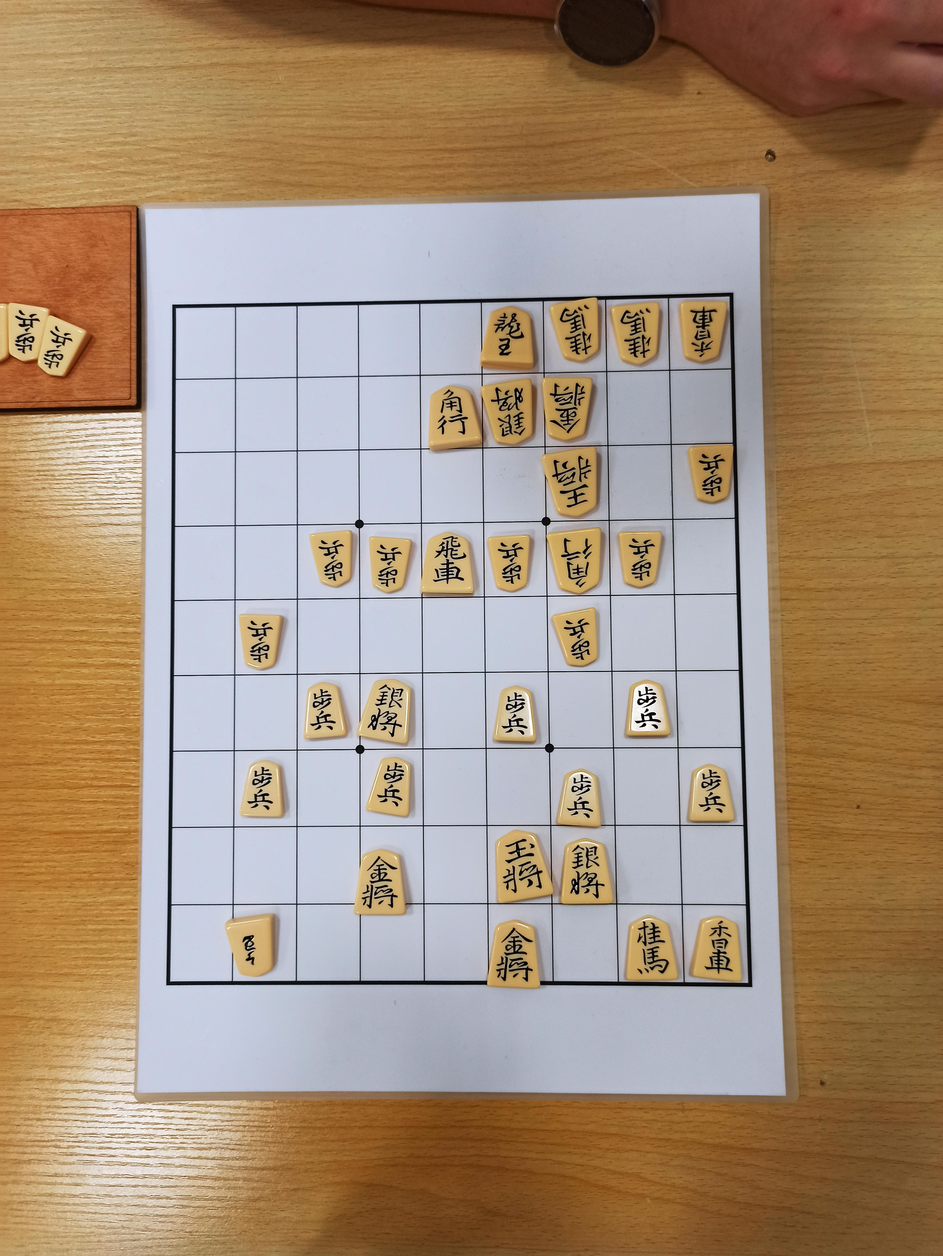board: (169, 294, 750, 985)
